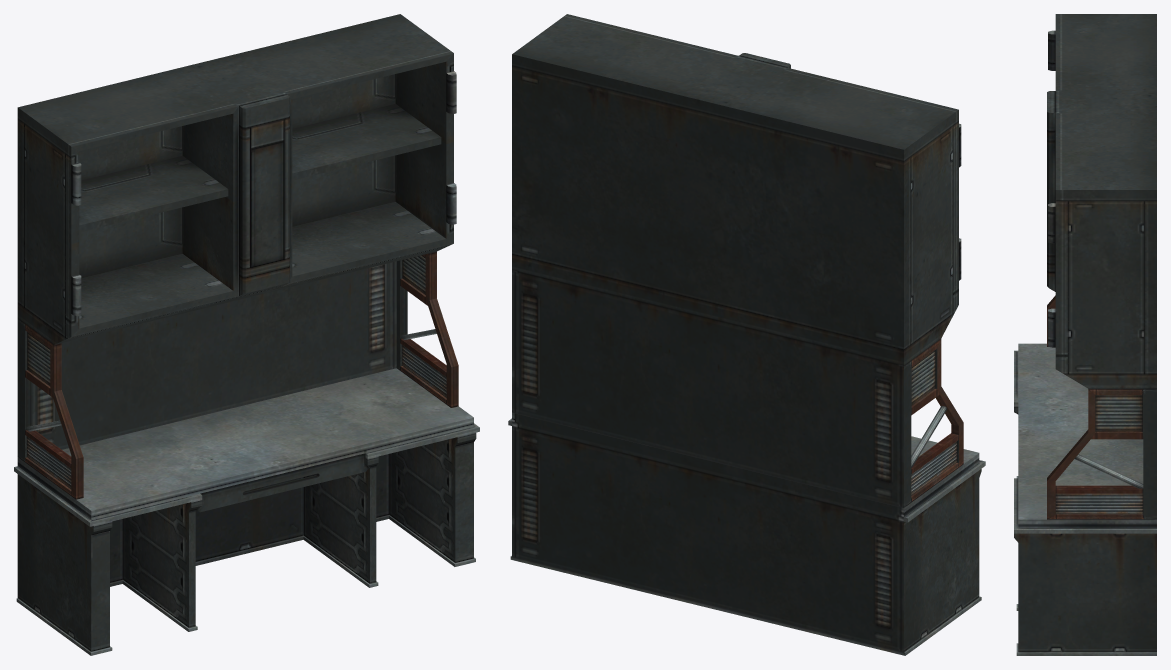
Rendered from desk_work_cabin.dae.
3 renders of one model, left to right at view 1: azimuth 30°, elevation 25°; view 2: azimuth 150°, elevation 25°; view 3: azimuth 270°, elevation 25°, orthographic. The views are drawn at different scales.
Visible parts, largest first — view 1: desk; view 2: desk; view 3: desk.
Part boxes in pixels (x1,y1,x2,y2): desk: [14, 14, 479, 655]; desk: [508, 14, 985, 655]; desk: [1014, 14, 1156, 655].
Bounding box in the file's own units: 3.06 × 3.7 × 1.03.
Materials: 1 (1 with a texture image).
